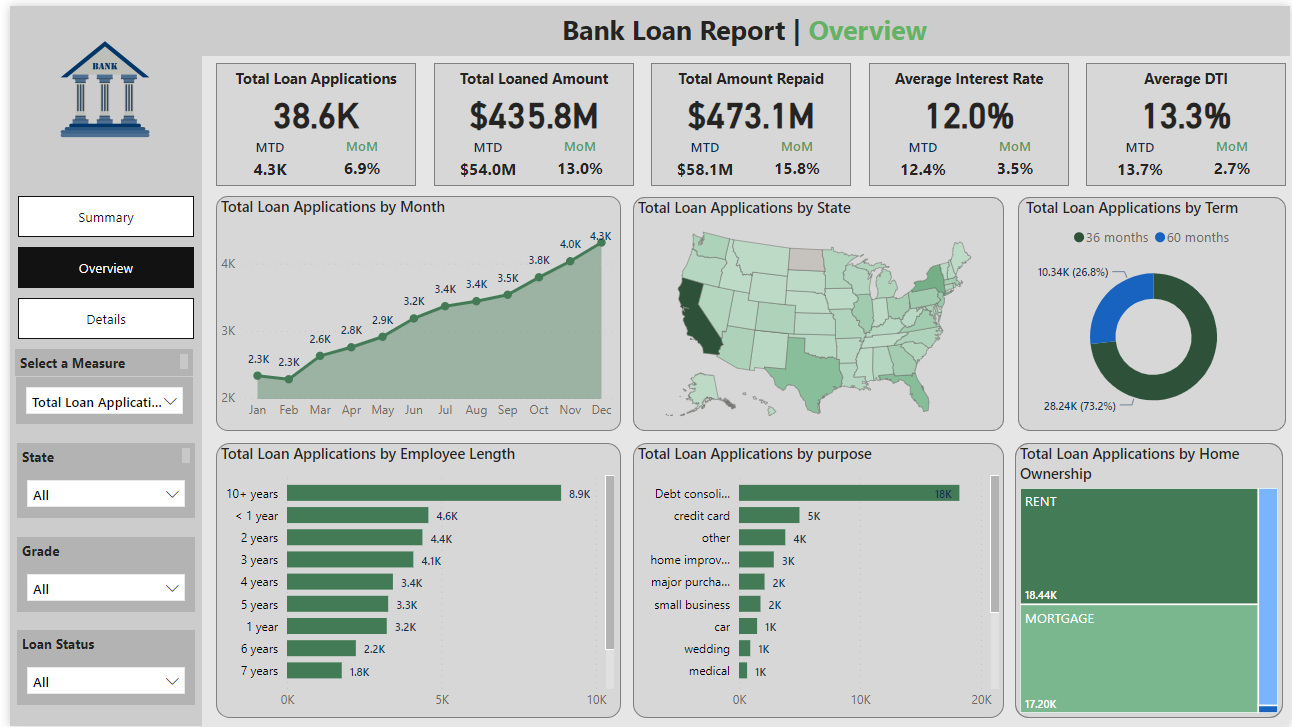

The page's visual inventory and layout, read from the dashboard file:
{"tool":"powerbi","page":{"name":"Overview","canvas":[1280,720],"ordinal":1},"visuals":[{"type":"shape","box":[0,49.6,191.6,670.2],"z":0},{"type":"shape","box":[206,57,200,123],"z":0,"group":"g1"},{"type":"shape","box":[423.5,57,200,123],"z":0,"group":"g2"},{"type":"shape","box":[641,57,200,123],"z":0,"group":"g4"},{"type":"shape","box":[858.5,57,200,123],"z":0,"group":"g3"},{"type":"shape","box":[1076,57,200,123],"z":0,"group":"g5"},{"type":"card","fields":{"Values":["bank_loan_data.Total Loan Applications"]},"box":[220,83,172,48],"z":1000,"group":"g1"},{"type":"card","fields":{"Values":["bank_loan_data.Total Loaned Amount"]},"box":[437.5,83,172,48],"z":1000,"group":"g2"},{"type":"card","fields":{"Values":["bank_loan_data.Total Amount Repaid"]},"box":[655,83,172,48],"z":1000,"group":"g4"},{"type":"card","fields":{"Values":["bank_loan_data.AVG Interest Rate"]},"box":[872.5,83,172,48],"z":1000,"group":"g3"},{"type":"card","fields":{"Values":["bank_loan_data.Average DTI"]},"box":[1090,83,172,48],"z":1000,"group":"g5"},{"type":"shape","box":[206,190,405,235],"z":1000},{"type":"shape","box":[0,0,1280,50],"z":2000},{"type":"textbox","box":[206,57,200,37],"z":2000,"group":"g1"},{"type":"textbox","box":[423.5,57,200,37],"z":2000,"group":"g2"},{"type":"textbox","box":[641,57,200,37],"z":2000,"group":"g4"},{"type":"textbox","box":[858.5,57,200,37],"z":2000,"group":"g3"},{"type":"textbox","box":[1076,57,200,37],"z":2000,"group":"g5"},{"type":"textbox","box":[547,0,387,51],"z":3000},{"type":"card","title":"MTD","fields":{"Values":["bank_loan_data.MTD Loan Applications"]},"box":[220,132,80,48],"z":3000,"group":"g1"},{"type":"card","title":"MTD","fields":{"Values":["bank_loan_data.MTD Loaned Amount"]},"box":[437.5,132,80,48],"z":3000,"group":"g2"},{"type":"card","title":"MTD","fields":{"Values":["bank_loan_data.MTD Loaned Repaid"]},"box":[655,132,80,48],"z":3000,"group":"g4"},{"type":"card","title":"MTD","fields":{"Values":["bank_loan_data.MTD AVG Interest Rate"]},"box":[872.5,132,80,48],"z":3000,"group":"g3"},{"type":"card","title":"MTD","fields":{"Values":["bank_loan_data.MTD AVG DTI"]},"box":[1090,132,80,48],"z":3000,"group":"g5"},{"type":"group","id":"g1","title":"Group 1","box":[206,57,200,123],"z":4000},{"type":"card","title":"MoM","fields":{"Values":["bank_loan_data.MoM Loan Application"]},"box":[312,131,80,48],"z":4000,"group":"g1"},{"type":"card","title":"MoM","fields":{"Values":["bank_loan_data.MoM Loaned Amount"]},"box":[529.5,131,80,48],"z":4000,"group":"g2"},{"type":"card","title":"MoM","fields":{"Values":["bank_loan_data.MoM Amount Repaid"]},"box":[747,131,80,48],"z":4000,"group":"g4"},{"type":"card","title":"MoM","fields":{"Values":["bank_loan_data.MoM Avg Interest Rate"]},"box":[964.5,131,80,48],"z":4000,"group":"g3"},{"type":"card","title":"MoM","fields":{"Values":["bank_loan_data.MoM Avg DTI"]},"box":[1182,131,80,48],"z":4000,"group":"g5"},{"type":"group","id":"g2","title":"Group 1","box":[423.5,57,200,123],"z":5000},{"type":"group","id":"g3","title":"Group 1","box":[858.5,57,200,123],"z":6000},{"type":"group","id":"g4","title":"Group 1","box":[641,57,200,123],"z":7000},{"type":"group","id":"g5","title":"Group 1","box":[1076,57,200,123],"z":8000},{"type":"areaChart","fields":{"Y":["bank_loan_data.Total Loan Applications"],"Category":["Date Table.Month"]},"box":[206.2,189.7,402.7,232.5],"z":13000},{"type":"slicer","fields":{"Values":["Select a Measure.Select a Measure"]},"box":[5.9,370.9,177,47.7],"z":14000,"group":"g12"},{"type":"shape","box":[623.5,190.6,370.6,234.4],"z":15000},{"type":"group","id":"g6","title":"Group 2","box":[6.8,437.2,178,75.1],"z":15001},{"type":"textbox","box":[6.8,530.8,178,27.2],"z":15002,"group":"g11"},{"type":"textbox","box":[6.8,624.4,178,27.2],"z":15003,"group":"g10"},{"type":"group","id":"g7","title":"Group 2","box":[6.8,557.9,178,48],"z":15004,"group":"g11"},{"type":"group","id":"g8","title":"Group 2","box":[6.8,651.7,178,48],"z":15005,"group":"g10"},{"type":"group","id":"g9","title":"Group 2","box":[4.9,343.3,178,27.2],"z":15006,"group":"g12"},{"type":"group","id":"g10","title":"Group 3","box":[6.8,624.4,178,75.3],"z":15007},{"type":"group","id":"g11","title":"Group 4","box":[6.8,530.8,178,75.1],"z":15008},{"type":"group","id":"g12","title":"Group 5","box":[4.9,343.3,178,75.3],"z":15009},{"type":"shape","box":[1007.7,190.6,268.4,234.4],"z":15010},{"type":"shape","box":[206.2,436.7,404.6,275.3],"z":15011},{"type":"shape","box":[623.5,436.7,370.6,275.3],"z":15012},{"type":"shape","box":[1004.7,436.7,268.4,275.3],"z":15013},{"type":"shapeMap","fields":{"Value":["bank_loan_data.Total Loan Applications"],"Category":["bank_loan_data.address_state"]},"box":[623.5,190.6,370.6,234.4],"z":15014},{"type":"donutChart","fields":{"Category":["bank_loan_data.term"],"Y":["bank_loan_data.Total Loan Applications"]},"box":[1010.6,190.6,265.5,231.5],"z":15015},{"type":"barChart","fields":{"Category":["bank_loan_data.emp_length"],"Y":["bank_loan_data.Total Loan Applications"]},"box":[206.2,436.7,402.7,275.3],"z":15016},{"type":"barChart","fields":{"Y":["bank_loan_data.Total Loan Applications"],"Category":["bank_loan_data.purpose"]},"box":[623.5,436.7,370.6,275.3],"z":15017},{"type":"treemap","fields":{"Group":["bank_loan_data.home_ownership"],"Values":["bank_loan_data.Total Loan Applications"]},"box":[1004.7,436.7,268.4,275.3],"z":15018},{"type":"pageNavigator","box":[7.8,189.7,176,144.9],"z":15019},{"type":"image","box":[26.3,11.7,138.1,141],"z":15020},{"type":"slicer","fields":{"Values":["bank_loan_data.address_state"]},"box":[6.8,464.3,178,48],"z":21000,"group":"g6"},{"type":"slicer","fields":{"Values":["bank_loan_data.grade"]},"box":[6.8,557.9,178,48],"z":21000,"group":"g7"},{"type":"slicer","fields":{"Values":["bank_loan_data.Good vs Bad Loan"]},"box":[6.8,651.7,178,48],"z":21000,"group":"g8"},{"type":"textbox","box":[4.9,343.3,178,27.2],"z":22000,"group":"g9"},{"type":"textbox","box":[6.8,437.2,178,27.2],"z":22000,"group":"g6"}]}

Visuals, with their boxes in screenshot pixels (x1, y1, x2, y2), scaled from the page's 1280x720 canvas onto the 1292x727 screenshot:
shape: box(0, 50, 193, 726)
shape: box(208, 58, 410, 182)
shape: box(427, 58, 629, 182)
shape: box(647, 58, 849, 182)
shape: box(867, 58, 1068, 182)
shape: box(1086, 58, 1288, 182)
card - bank_loan_data.Total Loan Applications: box(222, 84, 396, 132)
card - bank_loan_data.Total Loaned Amount: box(442, 84, 615, 132)
card - bank_loan_data.Total Amount Repaid: box(661, 84, 835, 132)
card - bank_loan_data.AVG Interest Rate: box(881, 84, 1054, 132)
card - bank_loan_data.Average DTI: box(1100, 84, 1274, 132)
shape: box(208, 192, 617, 429)
shape: box(0, 0, 1291, 50)
textbox: box(208, 58, 410, 95)
textbox: box(427, 58, 629, 95)
textbox: box(647, 58, 849, 95)
textbox: box(867, 58, 1068, 95)
textbox: box(1086, 58, 1288, 95)
textbox: box(552, 0, 943, 51)
"MTD" card: box(222, 133, 303, 182)
"MTD" card: box(442, 133, 522, 182)
"MTD" card: box(661, 133, 742, 182)
"MTD" card: box(881, 133, 961, 182)
"MTD" card: box(1100, 133, 1181, 182)
"Group 1" group: box(208, 58, 410, 182)
"MoM" card: box(315, 132, 396, 181)
"MoM" card: box(534, 132, 615, 181)
"MoM" card: box(754, 132, 835, 181)
"MoM" card: box(974, 132, 1054, 181)
"MoM" card: box(1193, 132, 1274, 181)
"Group 1" group: box(427, 58, 629, 182)
"Group 1" group: box(867, 58, 1068, 182)
"Group 1" group: box(647, 58, 849, 182)
"Group 1" group: box(1086, 58, 1288, 182)
areaChart - bank_loan_data.Total Loan Applications x Date Table.Month: box(208, 192, 615, 426)
slicer - Select a Measure.Select a Measure: box(6, 375, 185, 423)
shape: box(629, 192, 1003, 429)
"Group 2" group: box(7, 441, 187, 517)
textbox: box(7, 536, 187, 563)
textbox: box(7, 630, 187, 658)
"Group 2" group: box(7, 563, 187, 612)
"Group 2" group: box(7, 658, 187, 707)
"Group 2" group: box(5, 347, 185, 374)
"Group 3" group: box(7, 630, 187, 707)
"Group 4" group: box(7, 536, 187, 612)
"Group 5" group: box(5, 347, 185, 423)
shape: box(1017, 192, 1288, 429)
shape: box(208, 441, 617, 719)
shape: box(629, 441, 1003, 719)
shape: box(1014, 441, 1285, 719)
shapeMap - bank_loan_data.Total Loan Applications x bank_loan_data.address_state: box(629, 192, 1003, 429)
donutChart - bank_loan_data.term x bank_loan_data.Total Loan Applications: box(1020, 192, 1288, 426)
barChart - bank_loan_data.emp_length x bank_loan_data.Total Loan Applications: box(208, 441, 615, 719)
barChart - bank_loan_data.Total Loan Applications x bank_loan_data.purpose: box(629, 441, 1003, 719)
treemap - bank_loan_data.home_ownership x bank_loan_data.Total Loan Applications: box(1014, 441, 1285, 719)
pageNavigator: box(8, 192, 186, 338)
image: box(27, 12, 166, 154)
slicer - bank_loan_data.address_state: box(7, 469, 187, 517)
slicer - bank_loan_data.grade: box(7, 563, 187, 612)
slicer - bank_loan_data.Good vs Bad Loan: box(7, 658, 187, 707)
textbox: box(5, 347, 185, 374)
textbox: box(7, 441, 187, 469)
